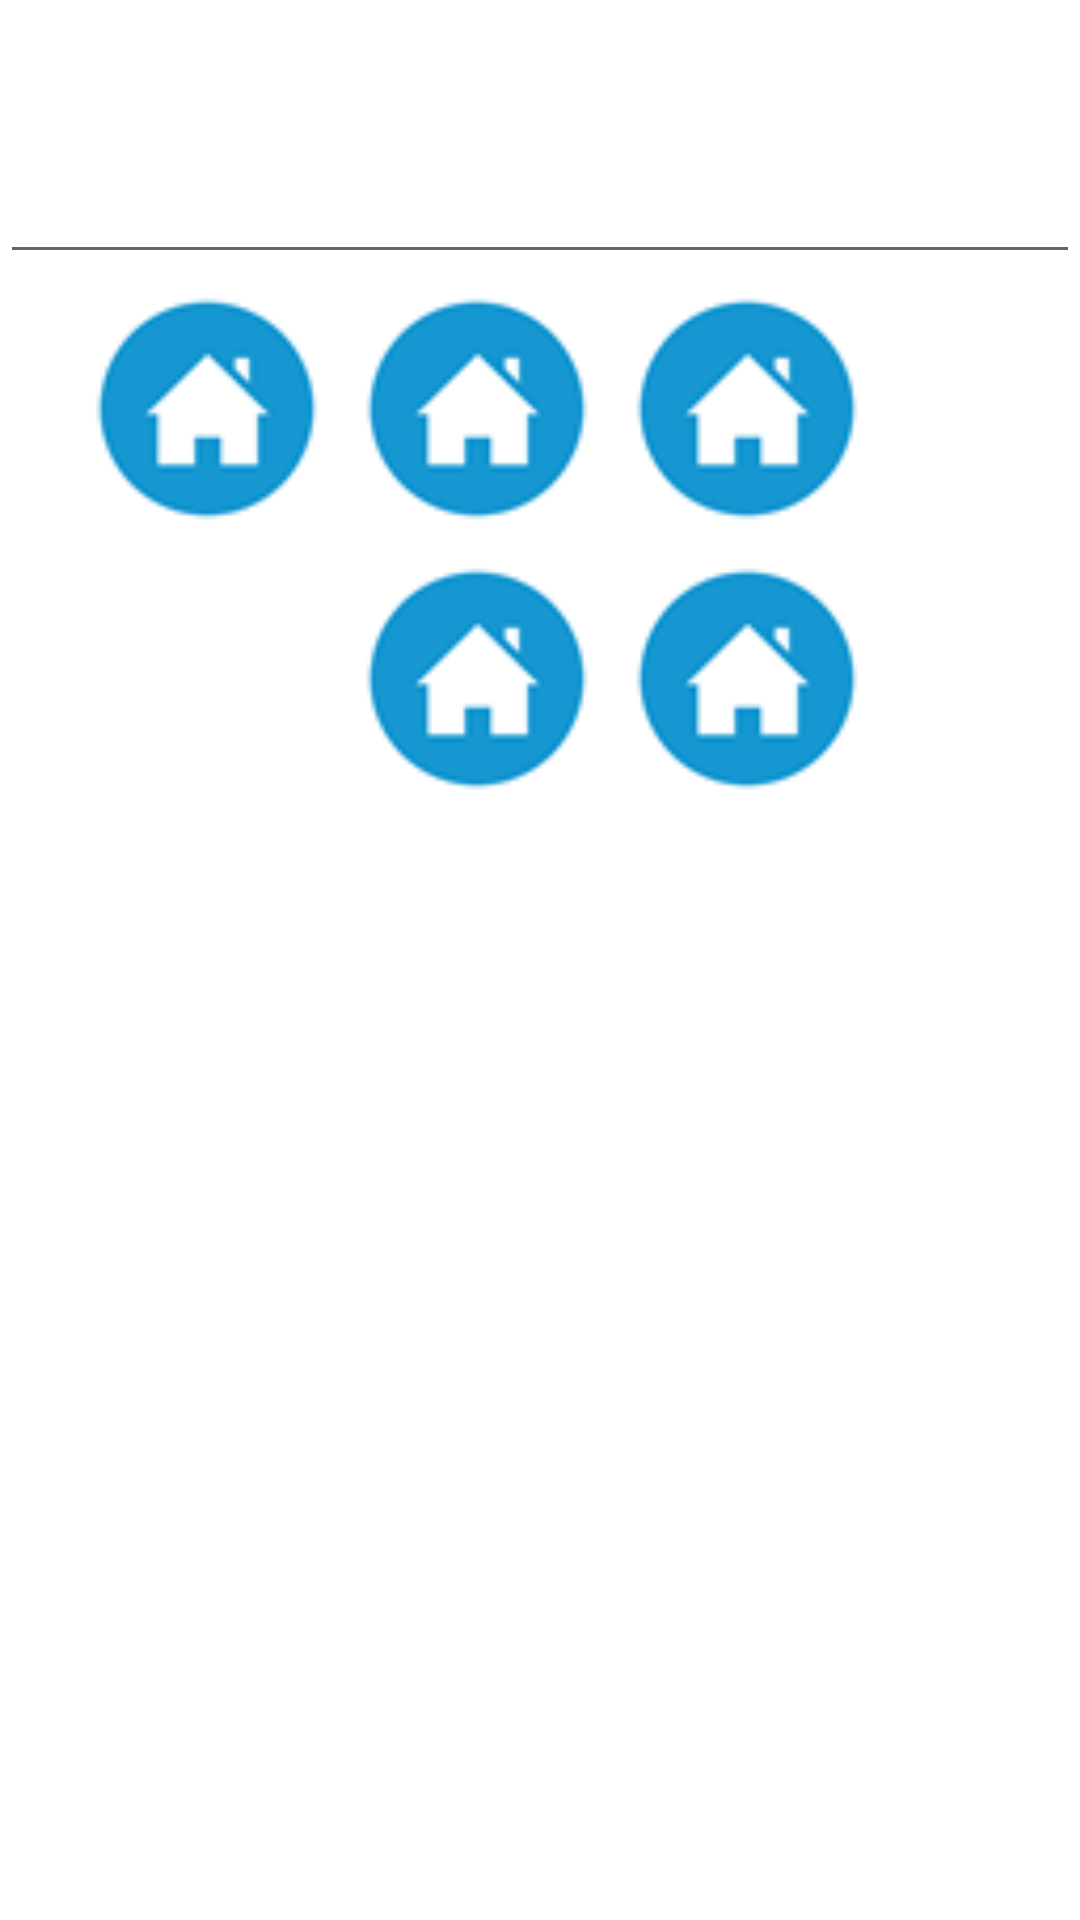

Named icons in this screenshot (1080x1920) and their bounding boxes, bbox(x1, y1, x2, y2):
home: bbox(97, 299, 317, 519), bbox(367, 299, 587, 519), bbox(637, 299, 857, 519), bbox(367, 569, 587, 789), bbox(637, 569, 857, 789)
